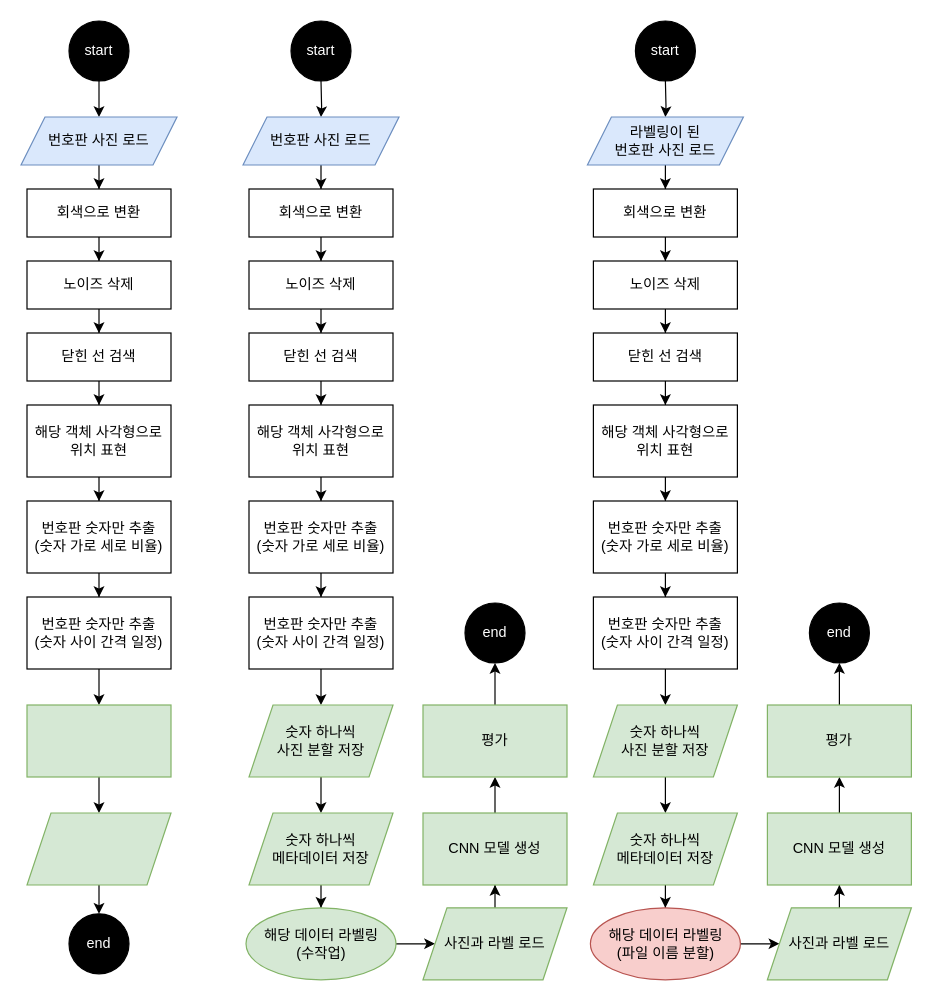
The diagram is 932 pixels wide and 1001 high, and some of its shapes have lost their labels. Each missing label, with the centre of its shape:
"인식 모델로 숫자 인식" belongs at (98,740).
"인식된 차량 번호 출력" belongs at (98,848).
